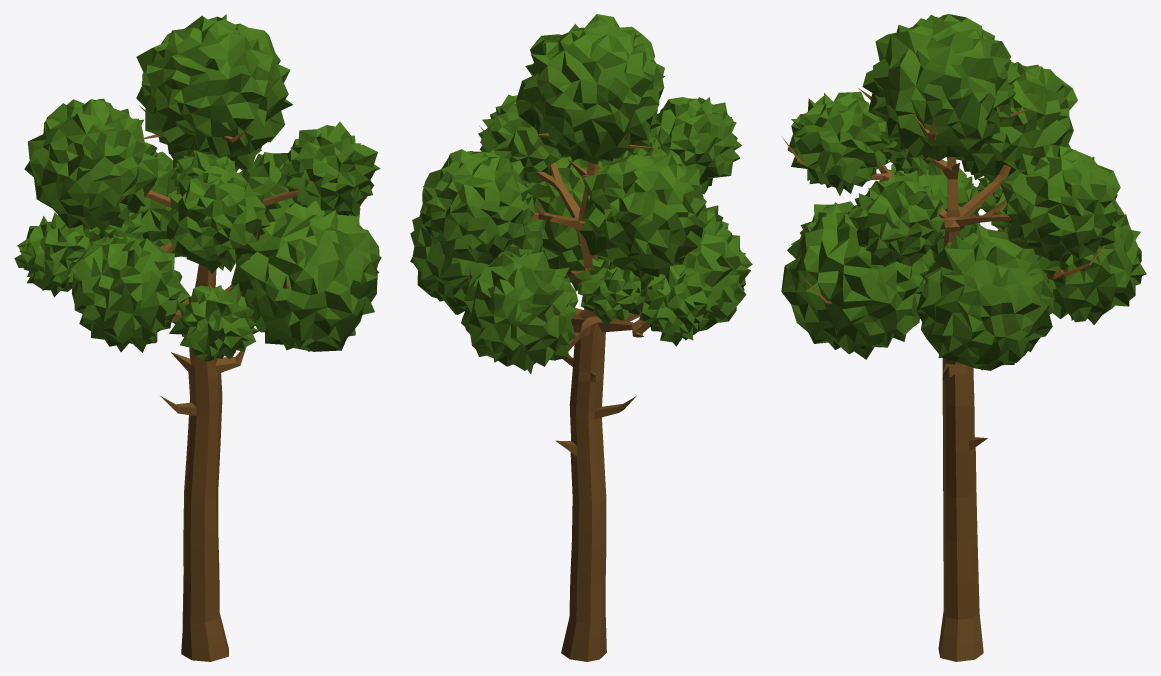
File: tree3.fbx
3 renders of one model, left to right at view 1: azimuth 30°, elevation 25°; view 2: azimuth 150°, elevation 25°; view 3: azimuth 270°, elevation 25°, orthographic. The views are drawn at different scales.
Visible parts, largest first — view 1: Tree_Pine_average; view 2: Tree_Pine_average; view 3: Tree_Pine_average.
Boxes of the visible parts, x1=… form: Tree_Pine_average: x1=14, y1=14, x2=381, y2=661; Tree_Pine_average: x1=410, y1=14, x2=752, y2=661; Tree_Pine_average: x1=781, y1=14, x2=1146, y2=661.
Size of the model in its own units: 94.94 by 182 by 95.7.
Materials: 1 (1 with a texture image).
